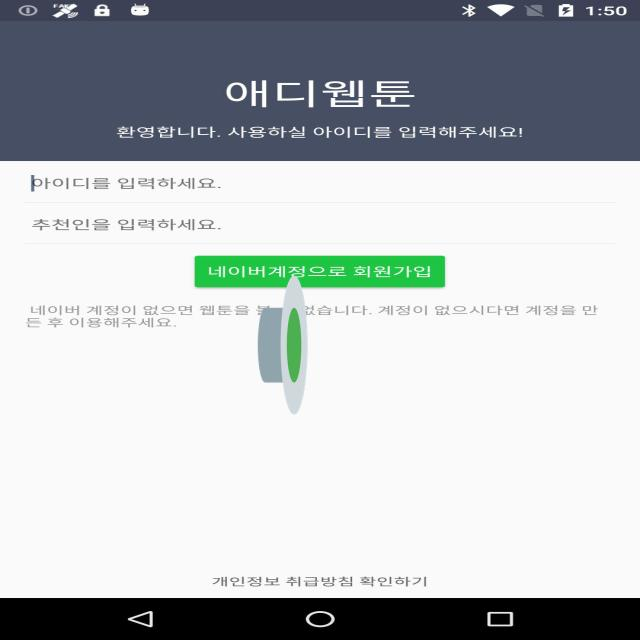social proof: (258, 217, 308, 473)
